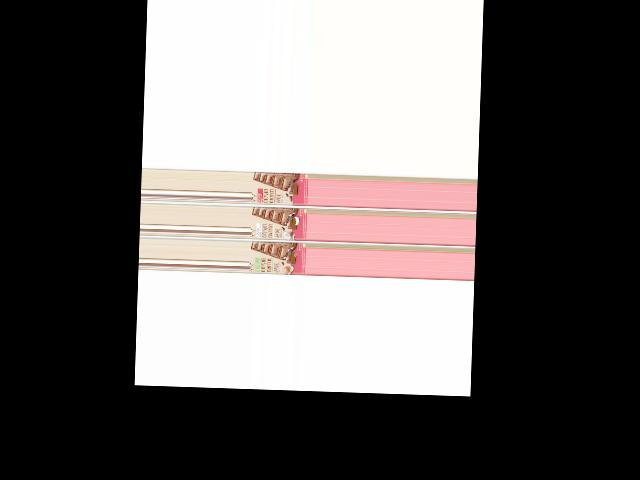chocolate: (249, 241, 306, 276)
